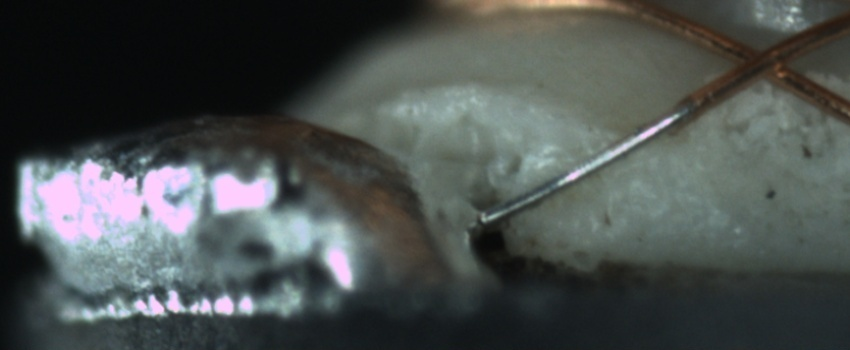CL: (717, 30, 813, 90)
TS: (479, 99, 695, 223)
